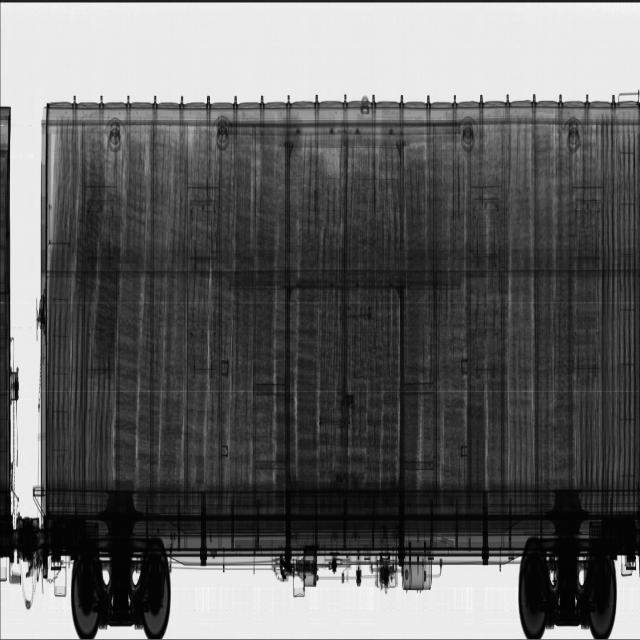shoes: (24, 118, 338, 498)
